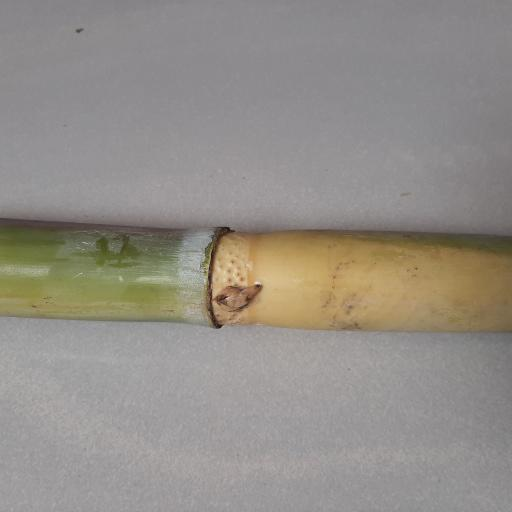Bud: (213, 281, 263, 314)
